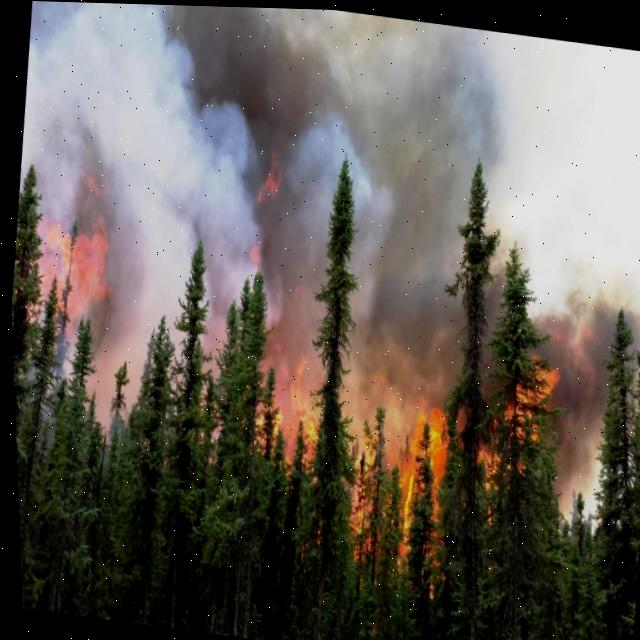fire: (393, 402, 447, 558)
smoke: (17, 1, 640, 538)
